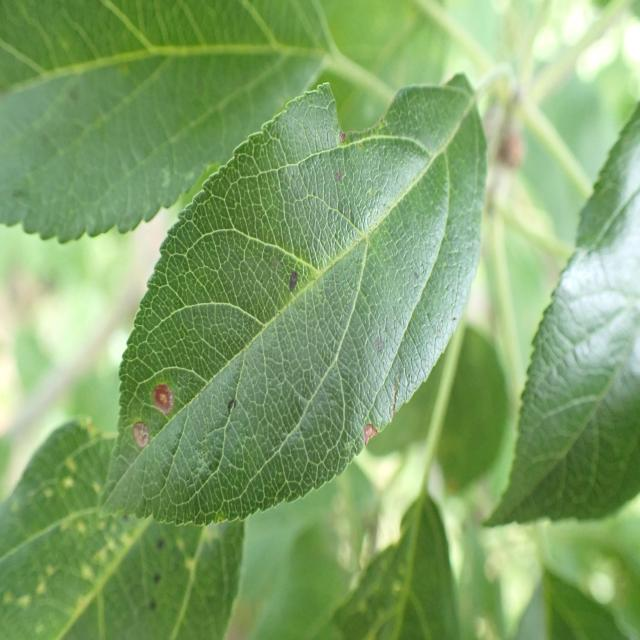Black Rot: (323, 70, 407, 140), (349, 407, 402, 484), (129, 365, 195, 418), (272, 238, 306, 318), (116, 407, 158, 458)
